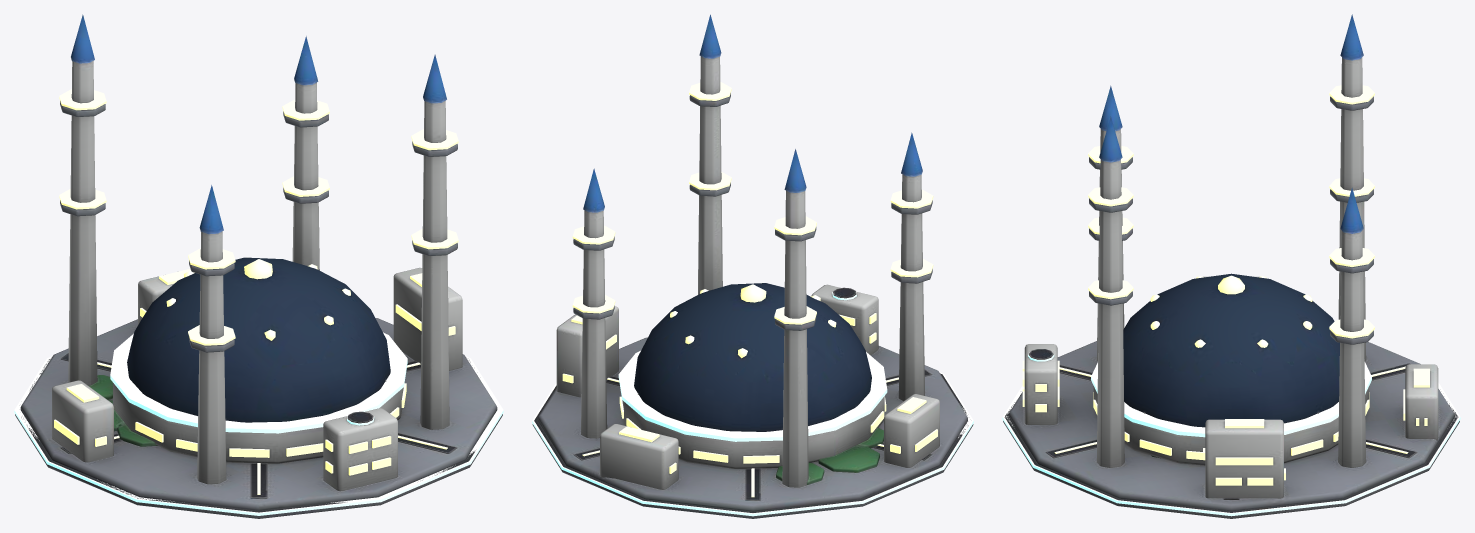
The model's file is city_a.glb.
The picture shows the model from 3 angles, left to right: view 1: azimuth 30°, elevation 25°; view 2: azimuth 150°, elevation 25°; view 3: azimuth 270°, elevation 25°; orthographic projection. The views are drawn at different scales.
Parts seen in each view (by area): view 1: city_a, city_a_glow; view 2: city_a, city_a_glow; view 3: city_a, city_a_glow.
Boxes of the visible parts, x1,y1,x2,y2 form: city_a: (15,14,502,518); city_a_glow: (14,89,503,515); city_a: (532,14,973,518); city_a_glow: (532,82,973,516); city_a: (1003,14,1459,518); city_a_glow: (1002,85,1460,516).
Size of the model in its own units: 3.49 by 3.03 by 3.49.
3 materials, 1 textured.
